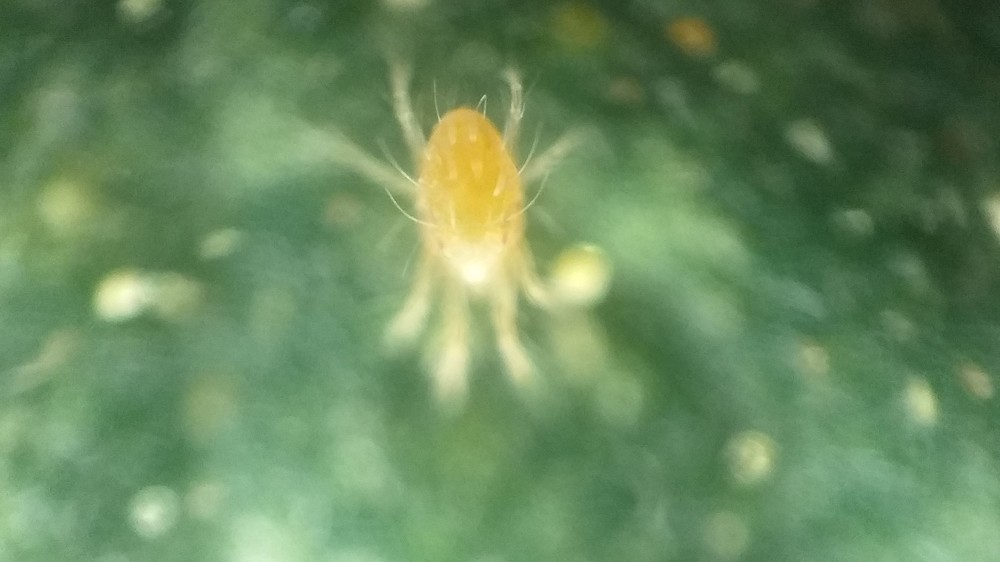Aracnido Rojo: (318, 59, 596, 405)
